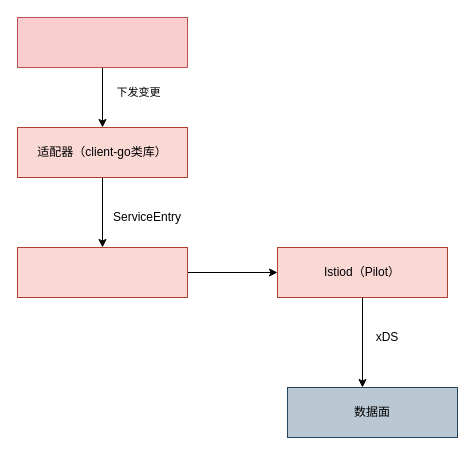
Some shapes in this 475 by 455 pixel diagram are drawn without their labels. Each missing label, with the box of its shape:
kube-apiserver: (16, 246, 188, 298)
注册中心（Zookeeper）: (16, 16, 188, 68)
